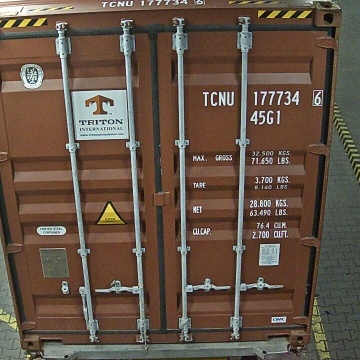serial_id: (202, 90, 322, 105)
